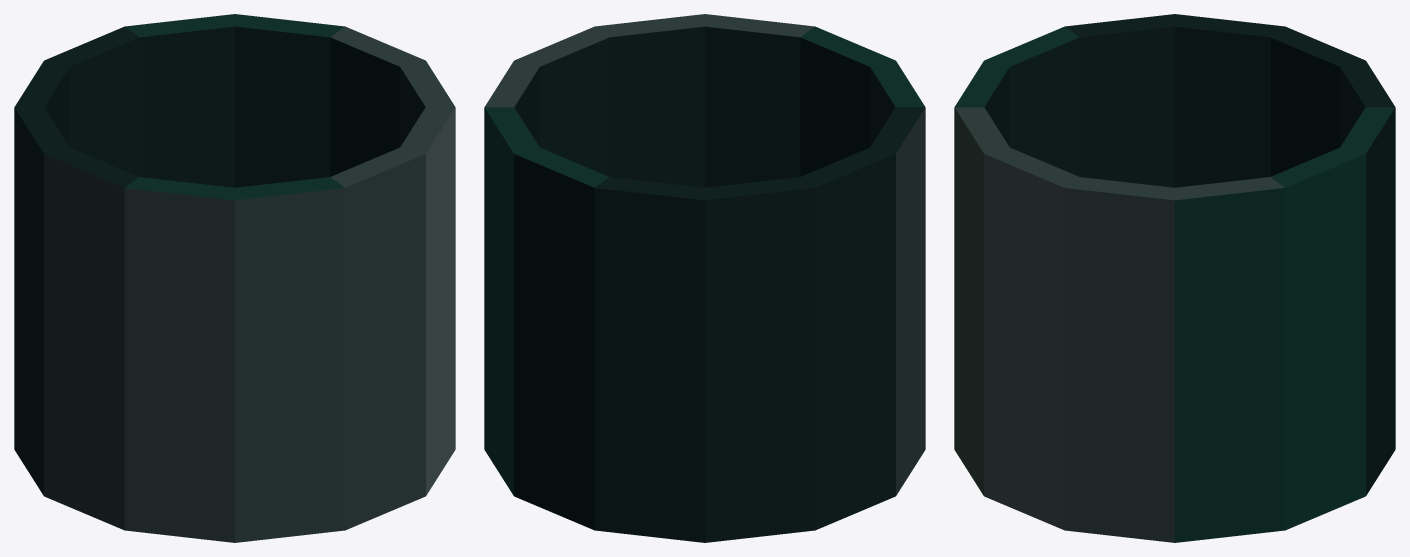
The model's file is Papelera.obj.
3 renders of one model, left to right at view 1: azimuth 30°, elevation 25°; view 2: azimuth 150°, elevation 25°; view 3: azimuth 270°, elevation 25°, orthographic.
Visible parts, largest first — view 1: Circle; view 2: Circle; view 3: Circle.
Part boxes in pixels (bbox=[...]): Circle: bbox=[14, 14, 455, 542]; Circle: bbox=[484, 14, 925, 542]; Circle: bbox=[954, 14, 1395, 542].
Size of the model in its own units: 0.7 by 0.6 by 0.7.
1 material, 1 textured.
